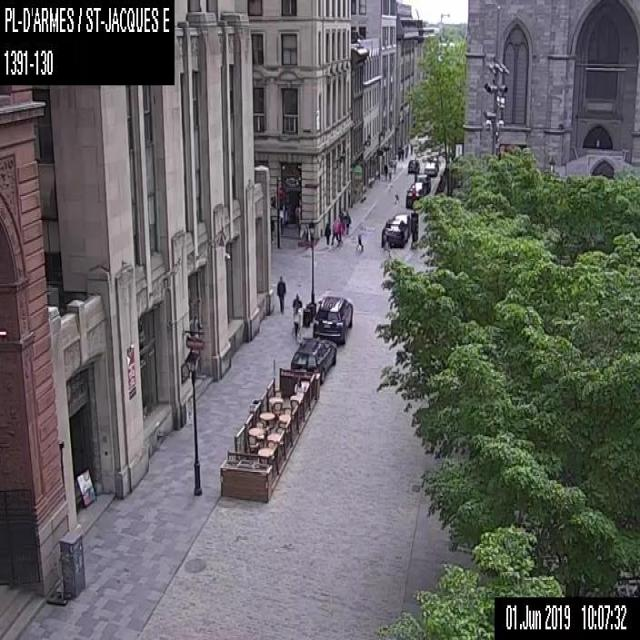pedestrian: (276, 273, 286, 312), (292, 306, 302, 340), (343, 209, 351, 234), (330, 219, 338, 244), (356, 229, 364, 252), (292, 292, 302, 308), (336, 222, 343, 244), (337, 209, 344, 231), (324, 220, 330, 244), (383, 160, 388, 180), (304, 226, 308, 250), (394, 189, 399, 204), (396, 147, 401, 160), (400, 147, 404, 160), (410, 143, 412, 154)
vehicle: (289, 337, 336, 384), (312, 294, 352, 344), (380, 219, 408, 248), (404, 187, 424, 208), (416, 174, 430, 188), (411, 181, 426, 194), (424, 161, 436, 176), (407, 158, 419, 172)
